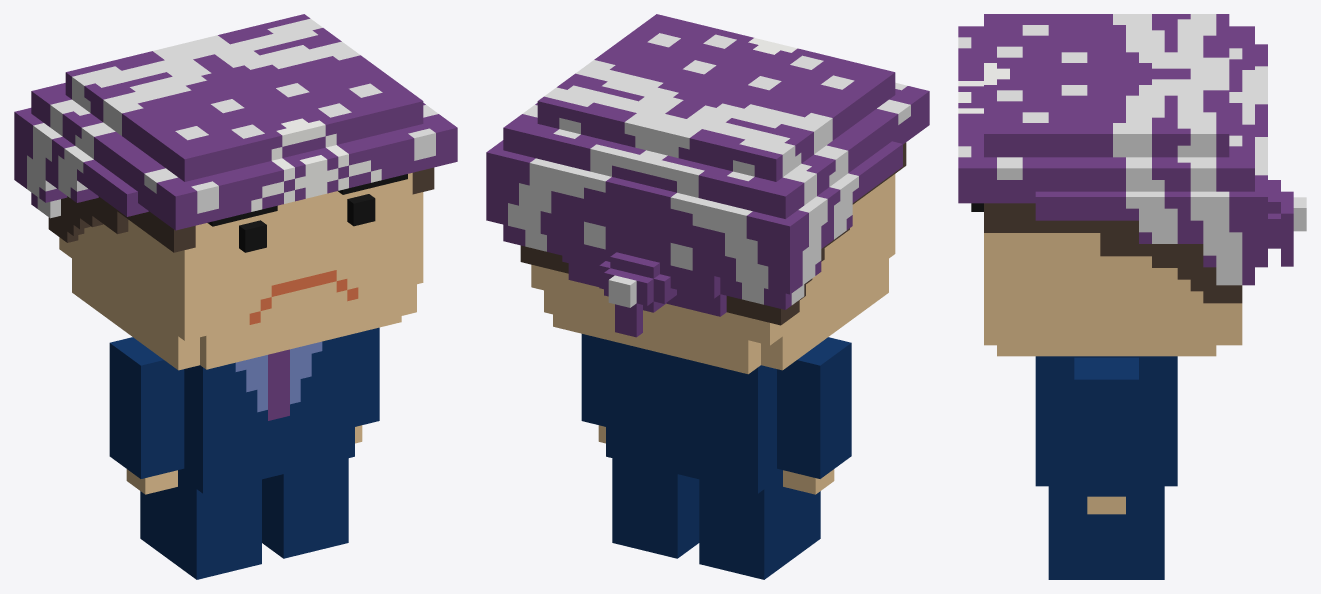
Rendered from MichaelThug.obj.
3 renders of one model, left to right at view 1: azimuth 30°, elevation 25°; view 2: azimuth 150°, elevation 25°; view 3: azimuth 270°, elevation 25°, orthographic. The views are drawn at different scales.
Bounding box in the file's own units: 2.8 × 4 × 2.7.
1 material, 1 textured.
